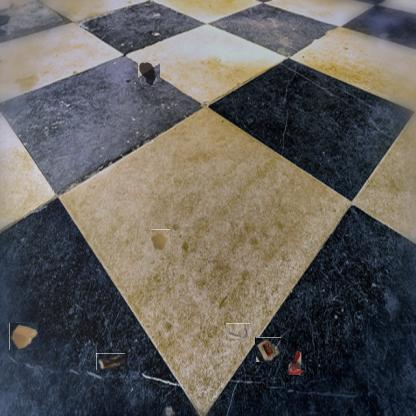dirty: (9, 322, 38, 350), (255, 337, 281, 362), (286, 350, 306, 376), (96, 353, 125, 370), (226, 323, 250, 340)
liquid: (138, 61, 160, 87), (150, 229, 170, 250)
